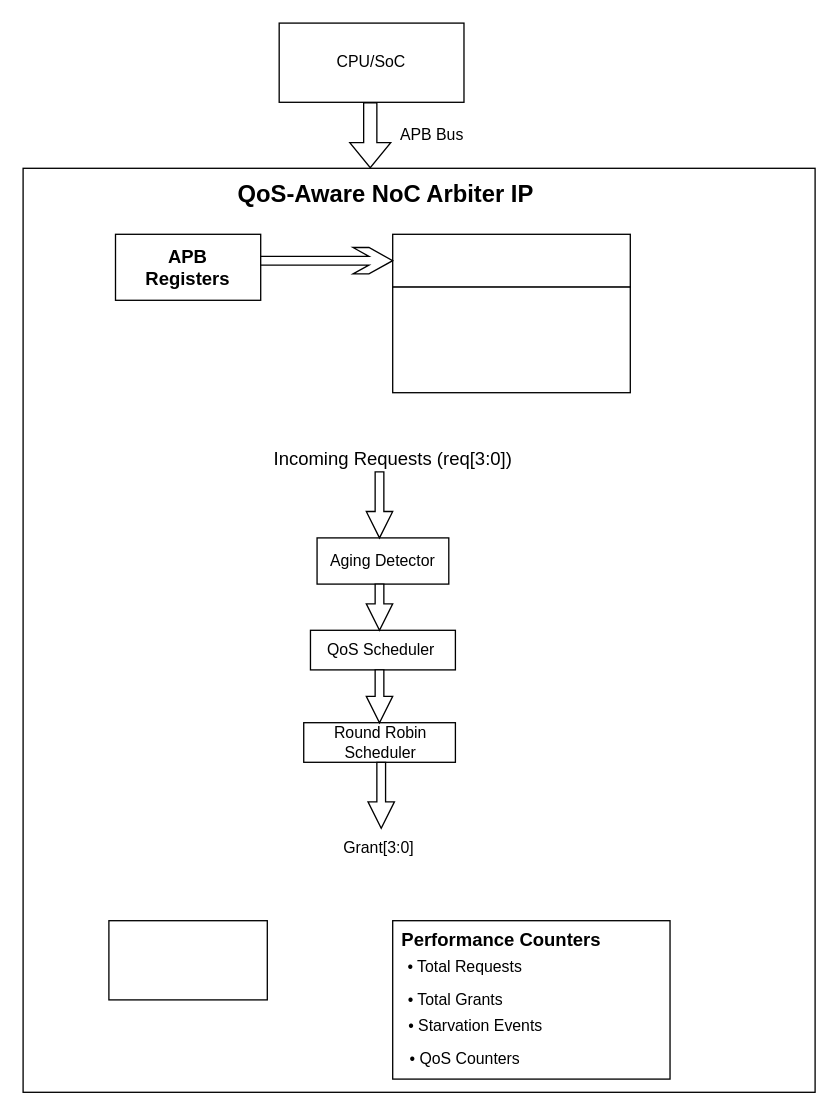
Image size: 838x1115. Some labels were removed from this diagram. The centre of each missing label's shape, as x and y in pixels:
Configuration Regs: point (510, 260)
Congestion Monitor: point (187, 959)
Priority Registers Age Limit Congestion Threshold: point (510, 339)
